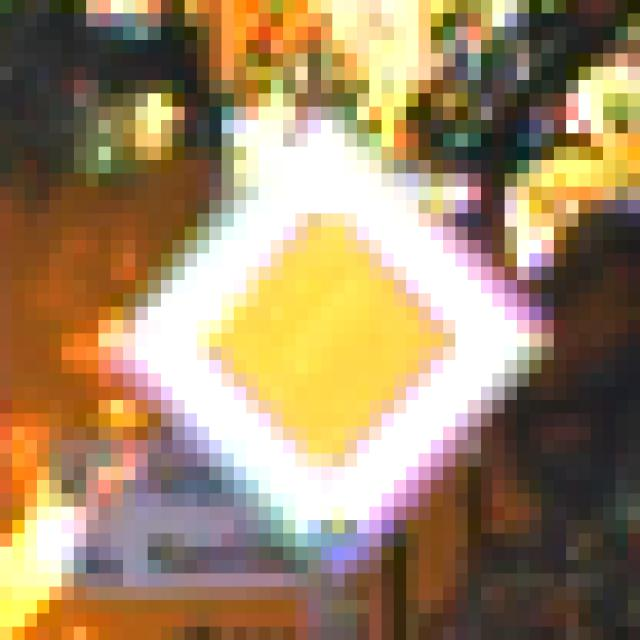Main Road: (75, 68, 567, 574)
